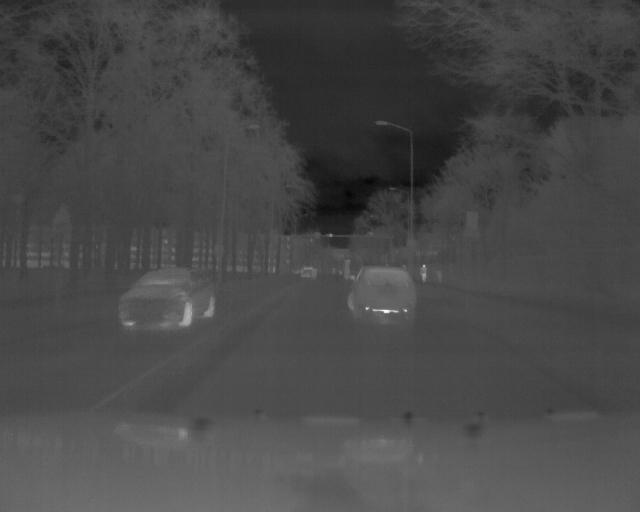car: (115, 265, 217, 333), (347, 263, 421, 320)
person: (420, 260, 429, 287)
